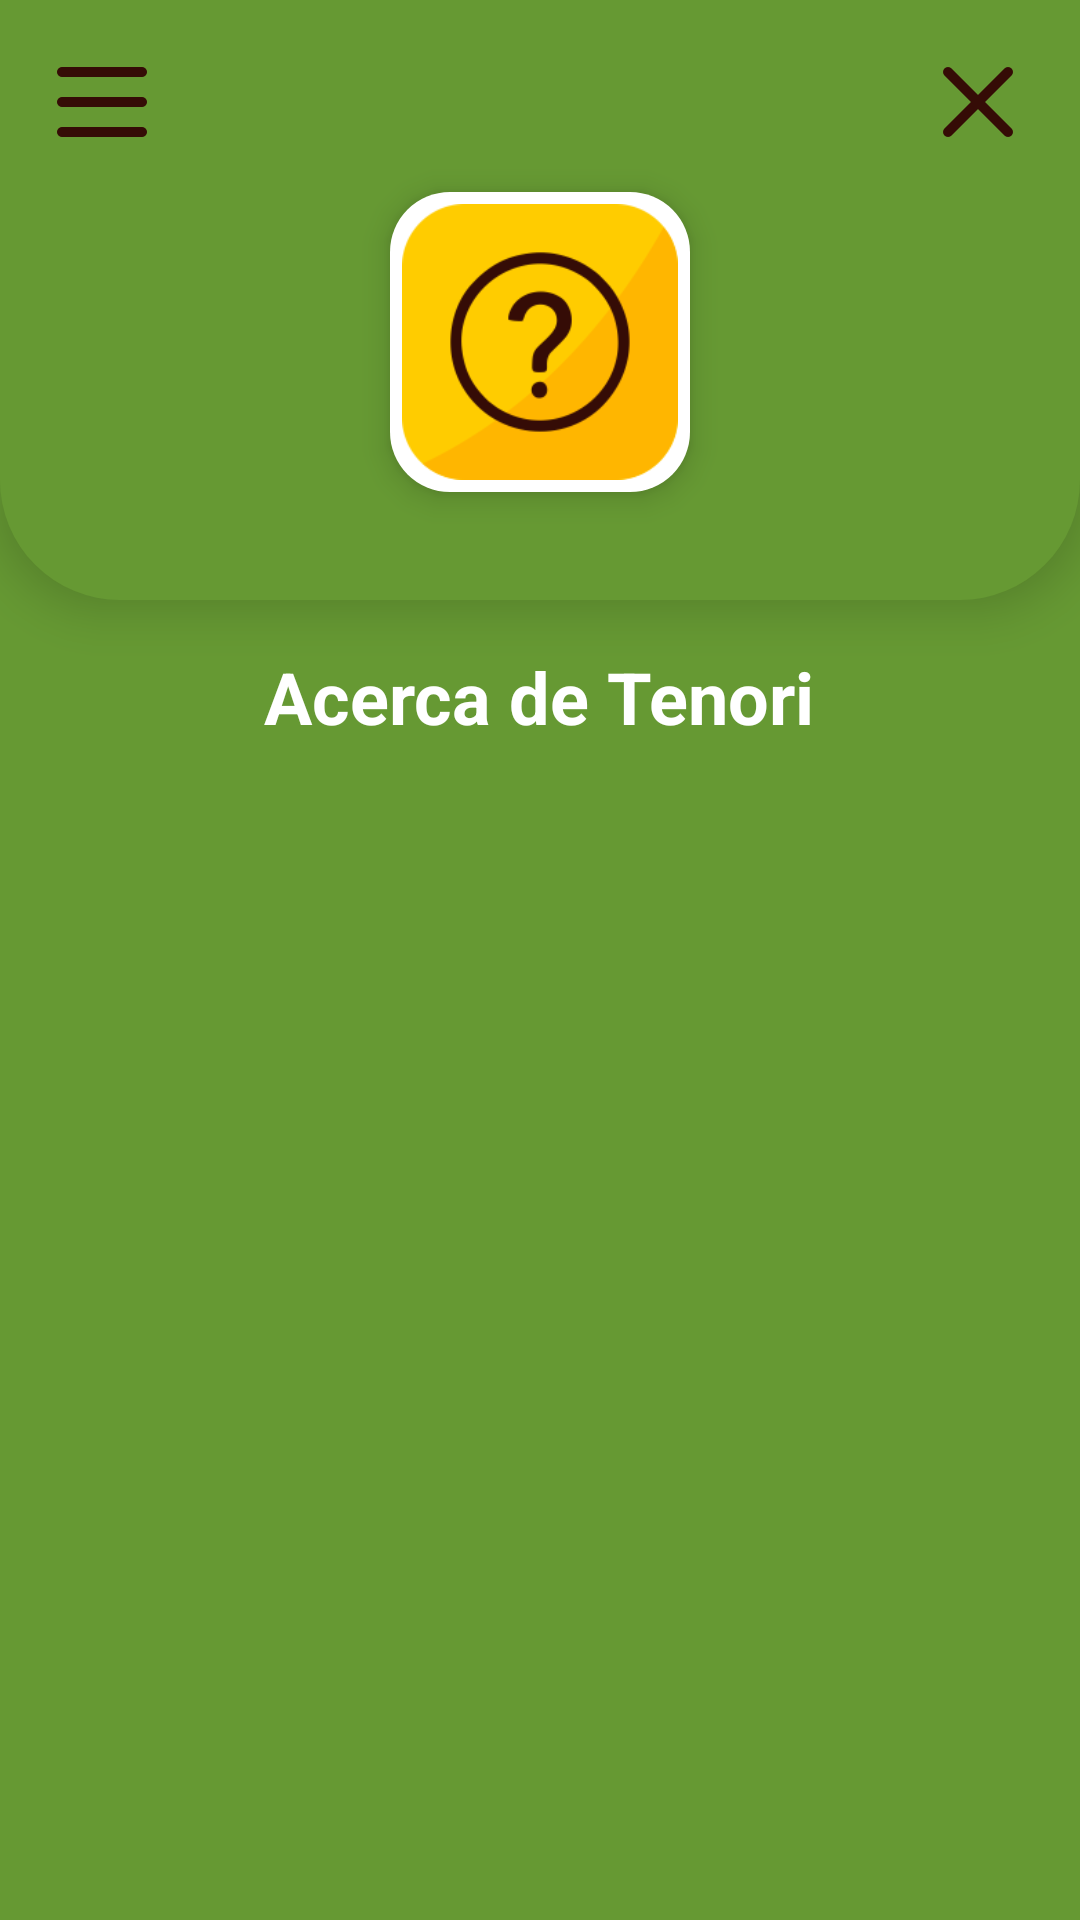

Where icons sit on this 1080×1920 app screen, as box(x1, y1, x2, y2):
close: box(943, 67, 1013, 137)
menu: box(57, 67, 147, 137)
